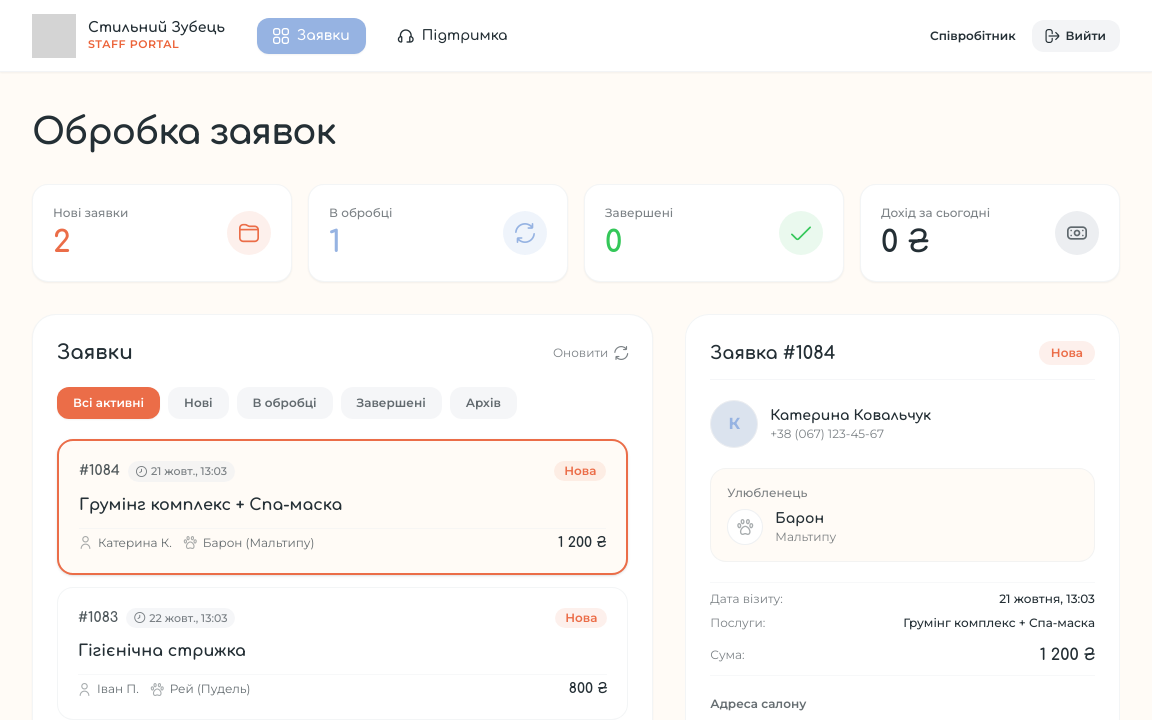
Test case: RequestProcessingPage › allows switching selected request by clicking another card
The width and height of the screenshot is (1152, 720).
Click the button with aria-label "Заявка #1083, Гігієнічна стрижка".
click(98, 617)  # box [57, 586, 628, 719]
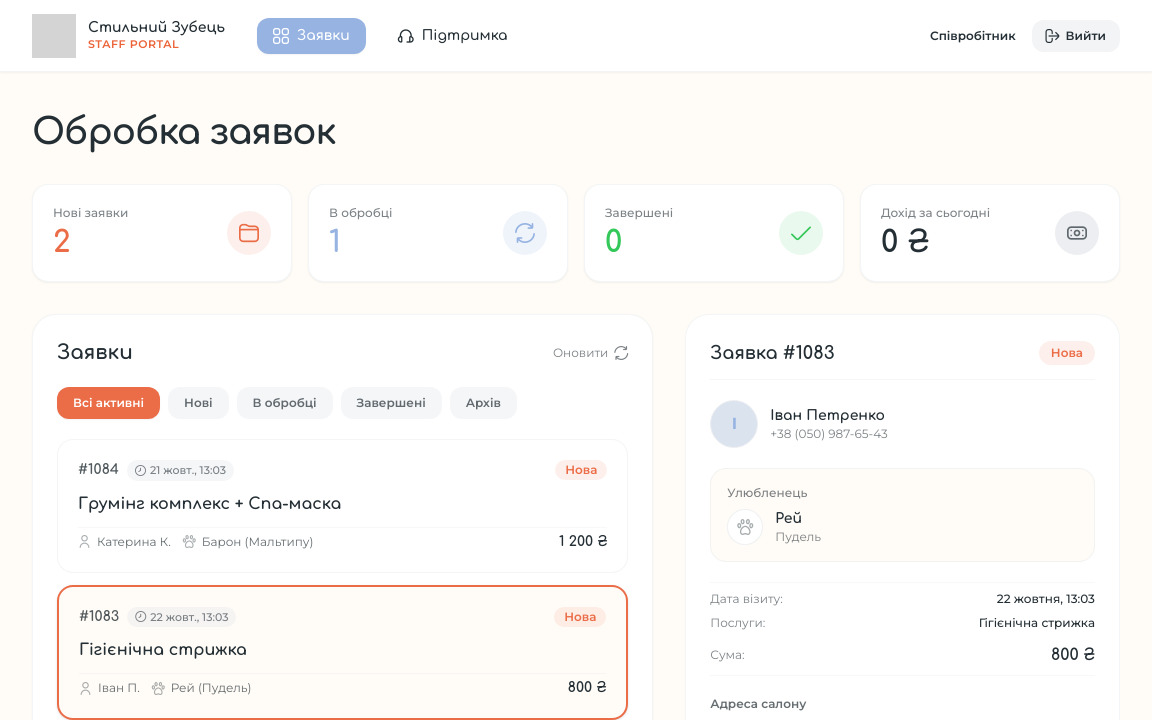
Check: the text "Іван Петренко" is shown, box [770, 406, 888, 426]
Check: the text "Рей" is shown, box [775, 511, 802, 526]
Check: the text "Пудель" is shown, box [775, 529, 821, 545]
